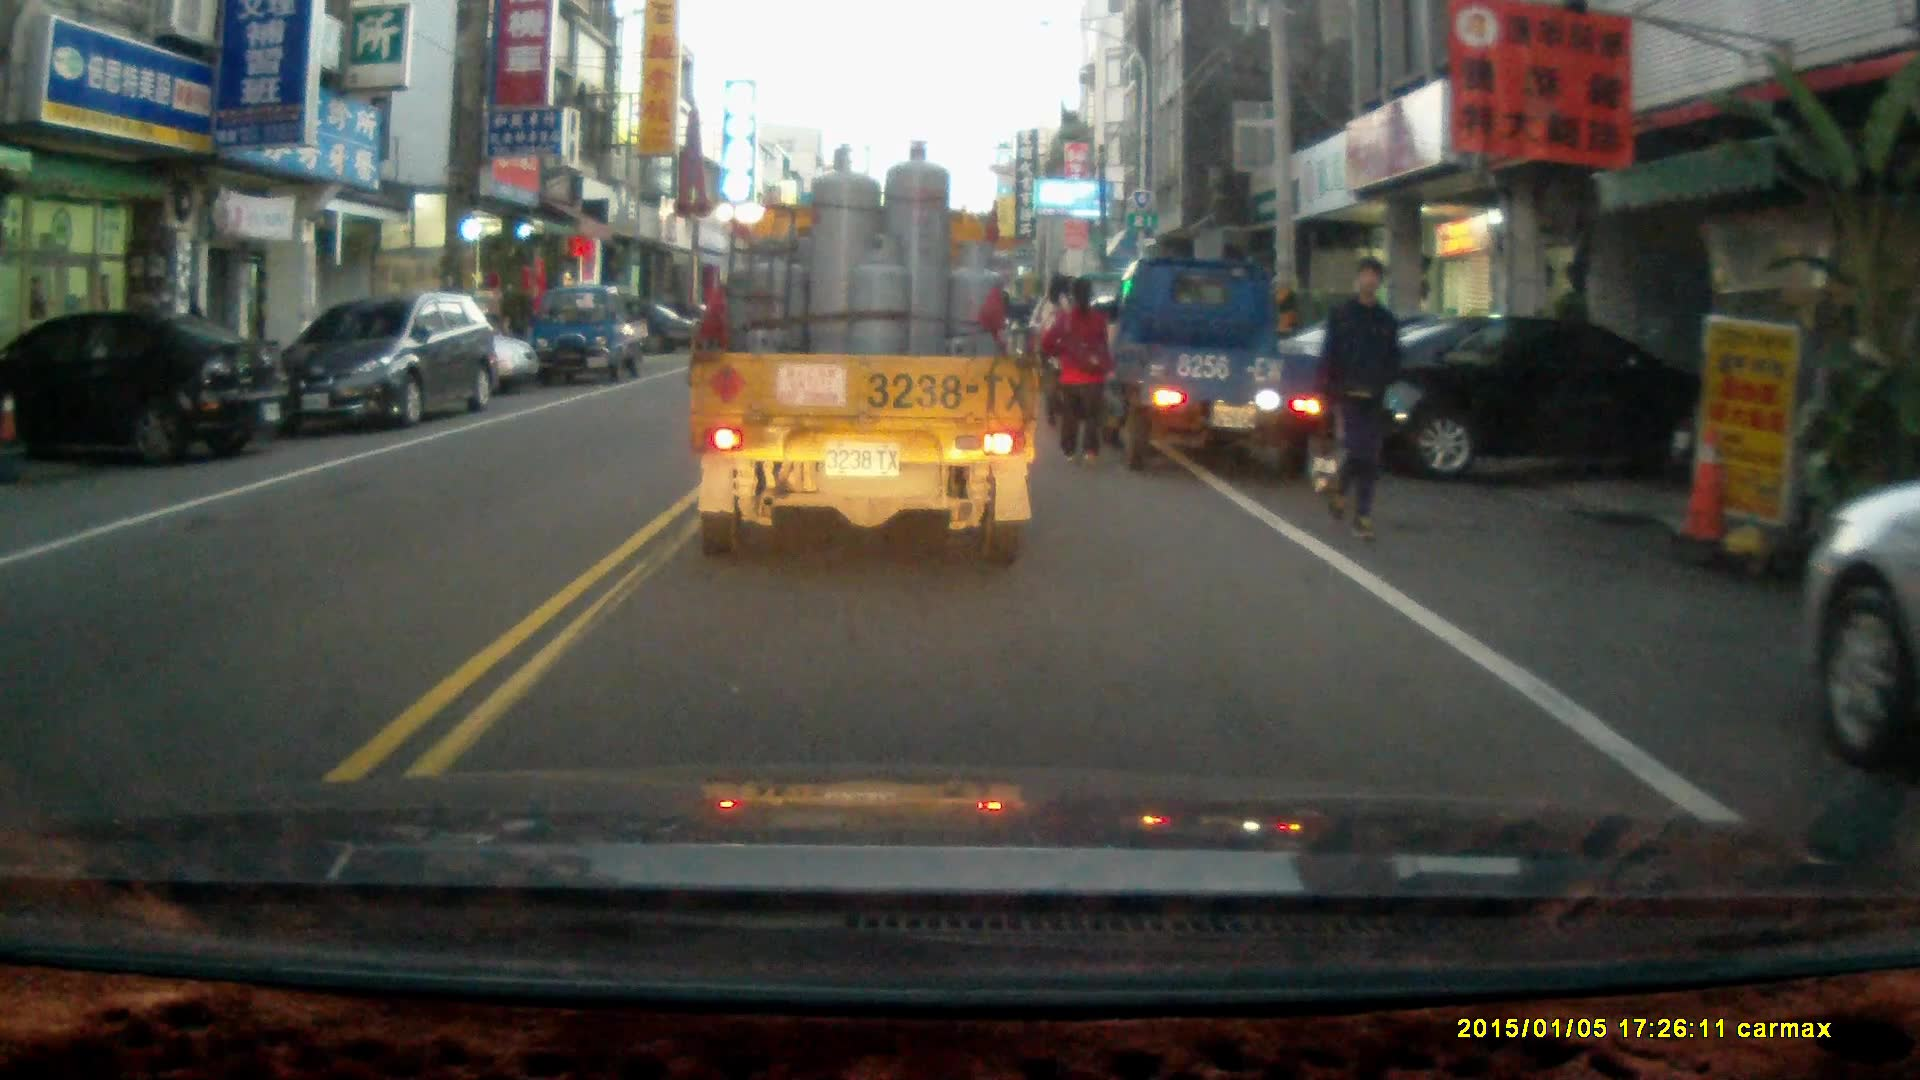pedestrian: (1310, 257, 1400, 542), (1042, 273, 1113, 465)
vehicle: (683, 140, 1043, 571), (1322, 305, 1659, 488), (1107, 254, 1350, 476), (1, 306, 293, 471), (1791, 494, 1920, 776), (264, 288, 508, 432), (532, 278, 653, 382)
